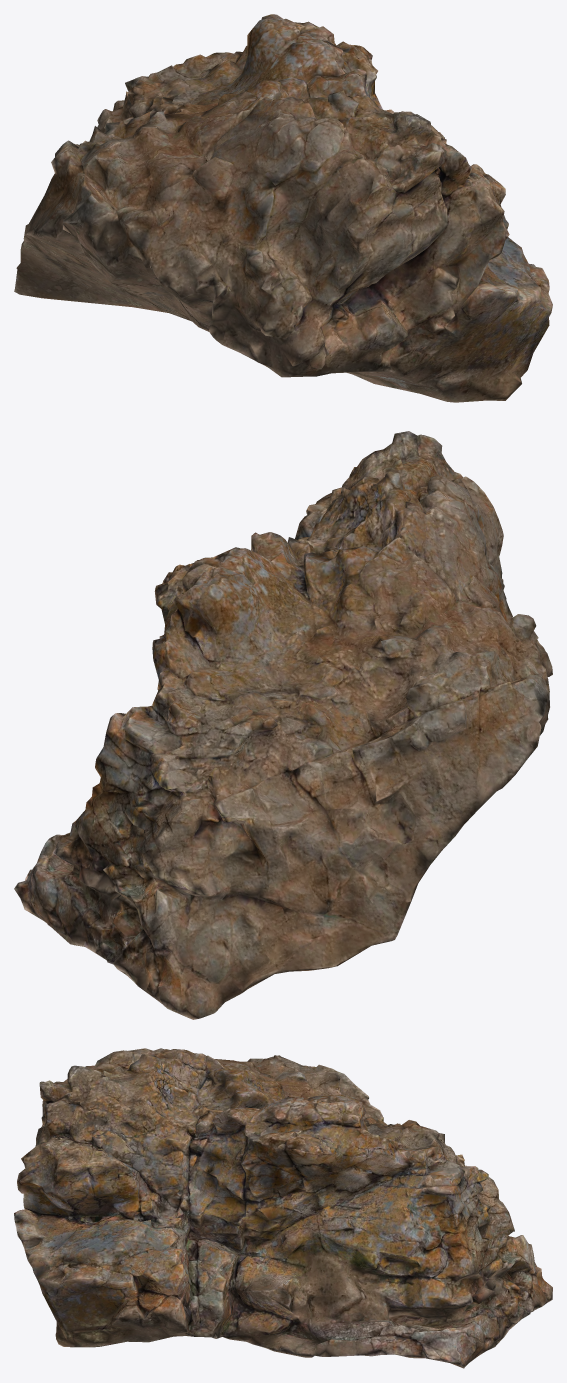
File: boulder_01.glb
The picture shows the model from 3 angles, top to bottom: view 1: azimuth 30°, elevation 25°; view 2: azimuth 150°, elevation 25°; view 3: azimuth 270°, elevation 25°; orthographic projection. The views are drawn at different scales.
Parts seen in each view (by area): view 1: boulder_01; view 2: boulder_01; view 3: boulder_01.
Part boxes in pixels (left/top/right/bottom): boulder_01: left=14, top=14, right=552, bottom=402; boulder_01: left=14, top=431, right=552, bottom=1019; boulder_01: left=14, top=1048, right=552, bottom=1368.
Size of the model in its own units: 1.27 by 1 by 1.82.
1 material, 1 textured.
